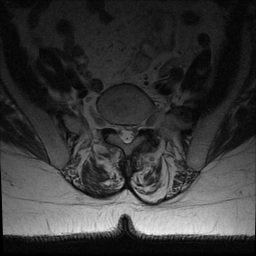CCS_normal: (124, 116, 131, 150)
LFS_stenosis: (137, 115, 145, 136)
LLS_normal: (131, 118, 138, 143)
RFS_stenosis: (107, 114, 115, 136)
RLS_normal: (116, 117, 123, 143)
